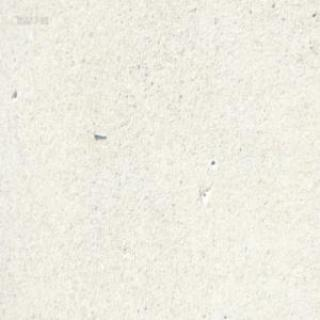Nailtrack_idkeyframe: (92, 130, 106, 138)
